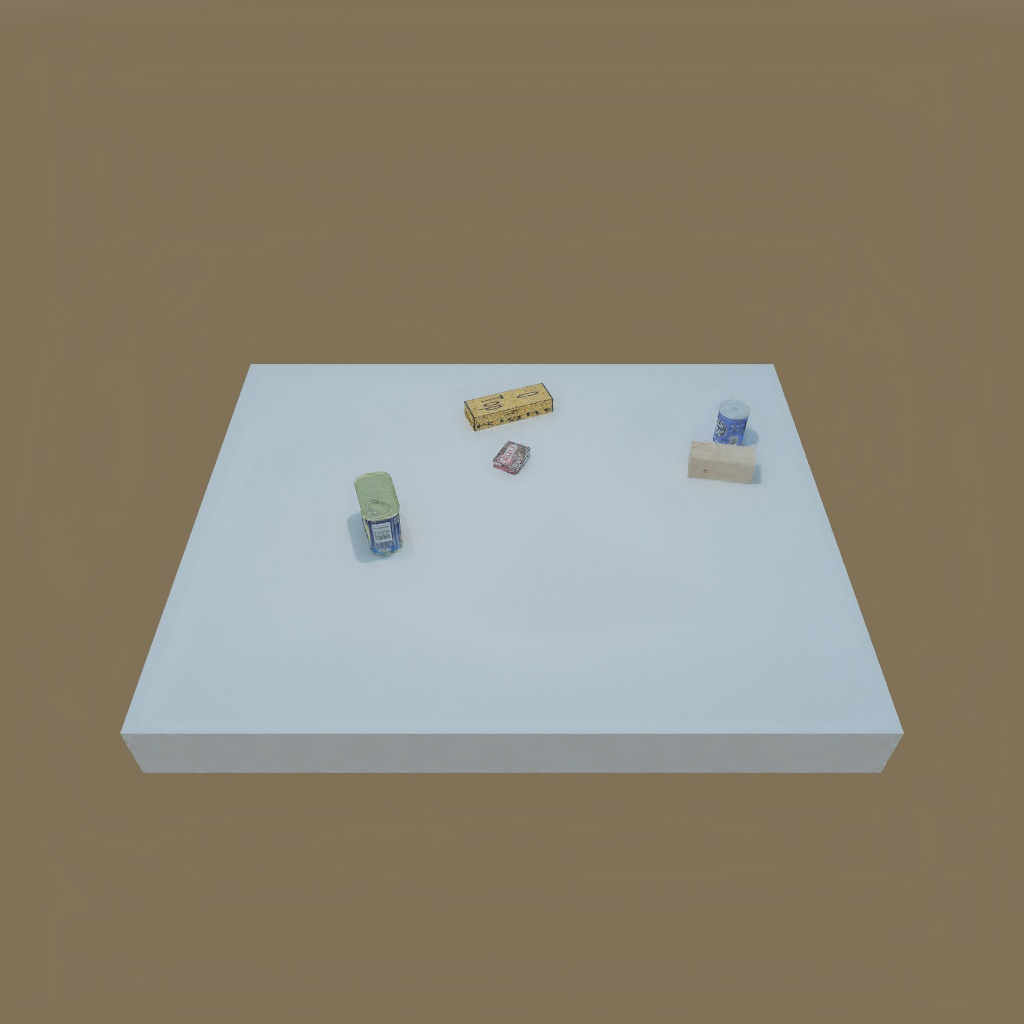jenga: (465, 383, 551, 430)
master_chef_can: (715, 397, 753, 452)
potted_meat_can: (353, 466, 400, 561)
pudding_box: (492, 440, 537, 479)
wood_block: (685, 440, 762, 487)
